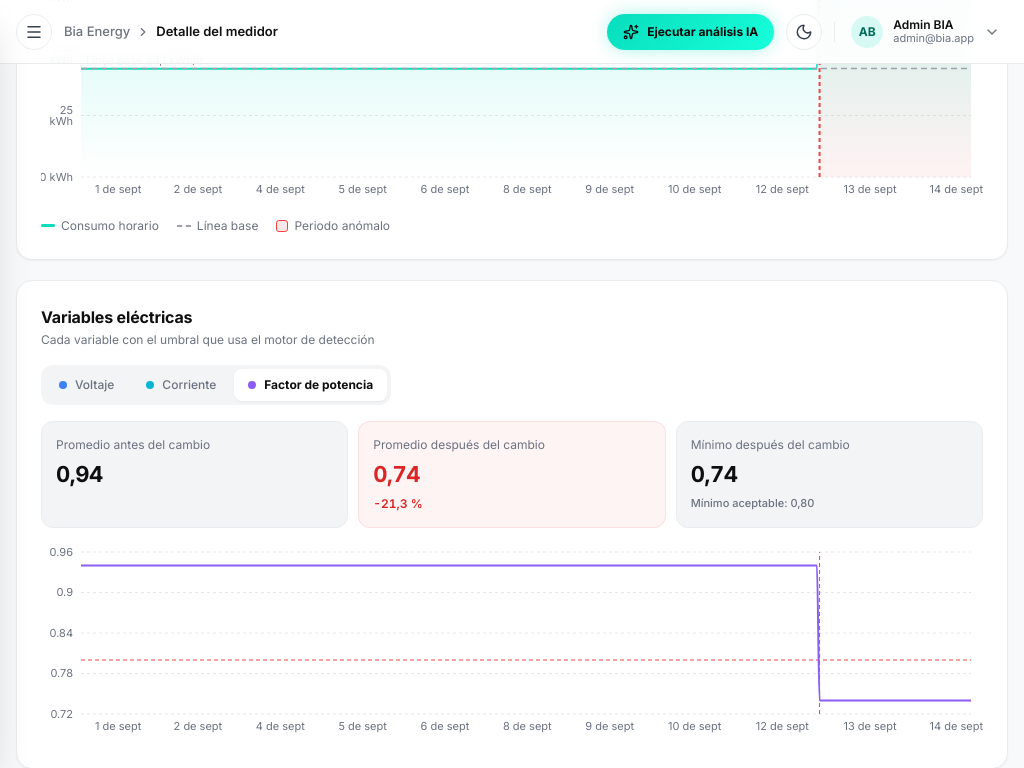
Scenario: MeterDetailPage › compares each electrical variable before and after the change with its threshold
The width and height of the screenshot is (1024, 768).
(page scrolled)
expect the text "0,94" is shown: met, box [56,461,103,487]
expect the text "Mínimo aceptable: 0,80" is shown: met, box [691,496,814,510]
Click the tab "Corriente": (181, 385) [132,369,230,401]
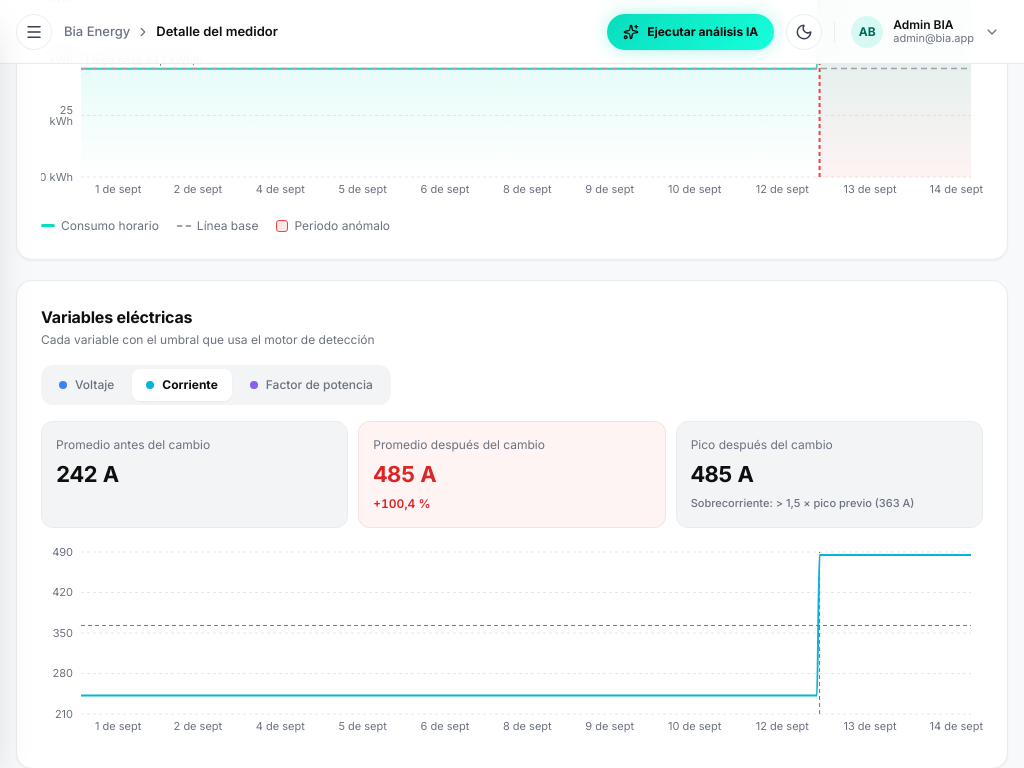
expect the text "+100,4 %" is shown: met, box [373,496,431,511]
expect the text "Sobrecorriente: > 1,5 × pico previo (363 A)" is shown: met, box [691,496,914,510]
Click the tab "Voltaje": (87, 385) [45,369,128,401]
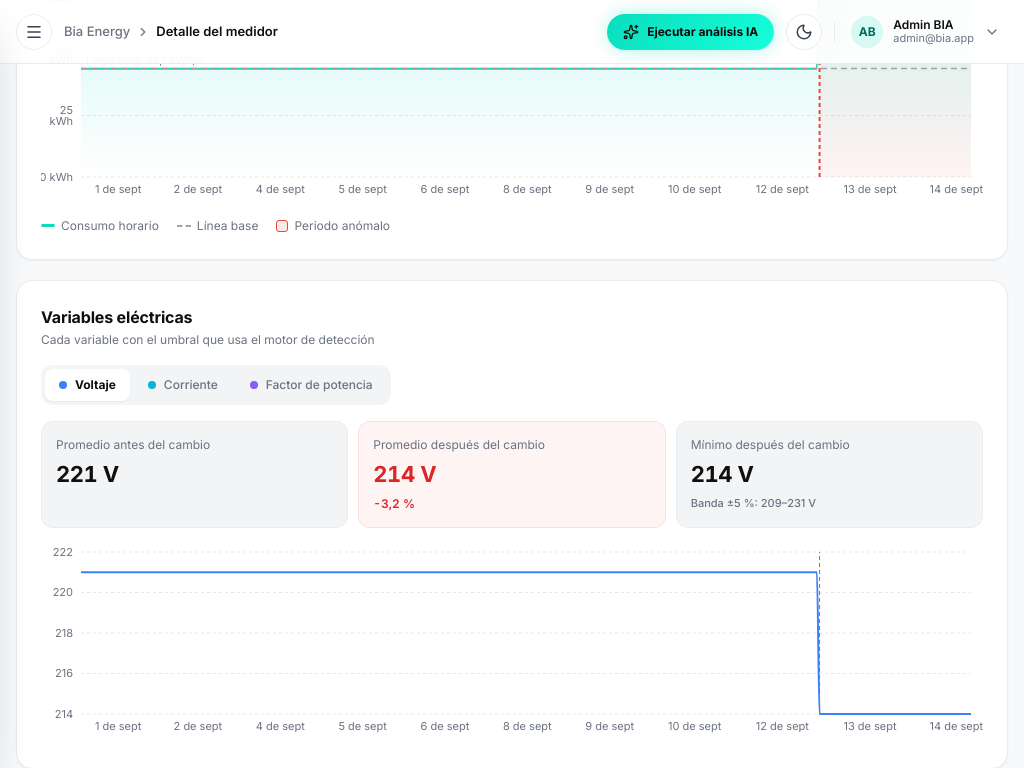
expect the text "Banda ±5 %: 209–231 V" is shown: met, box [691,496,816,510]
